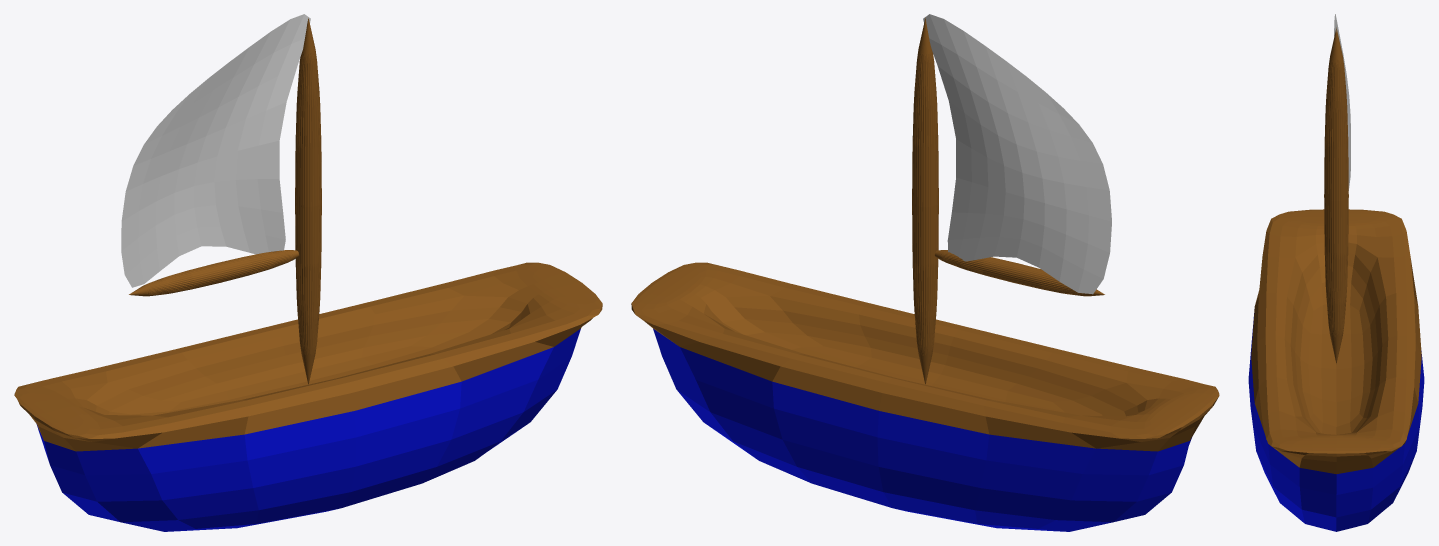
File: Barco.fbx
3 renders of one model, left to right at view 1: azimuth 30°, elevation 25°; view 2: azimuth 150°, elevation 25°; view 3: azimuth 270°, elevation 25°, orthographic. The views are drawn at different scales.
Parts seen in each view (by area): view 1: Barco; view 2: Barco; view 3: Barco.
Boxes of the visible parts, x1,y1,x2,y2 form: Barco: (14,14,602,531); Barco: (631,14,1219,531); Barco: (1248,14,1424,531).
Size of the model in its own units: 177 by 151 by 53.65.
